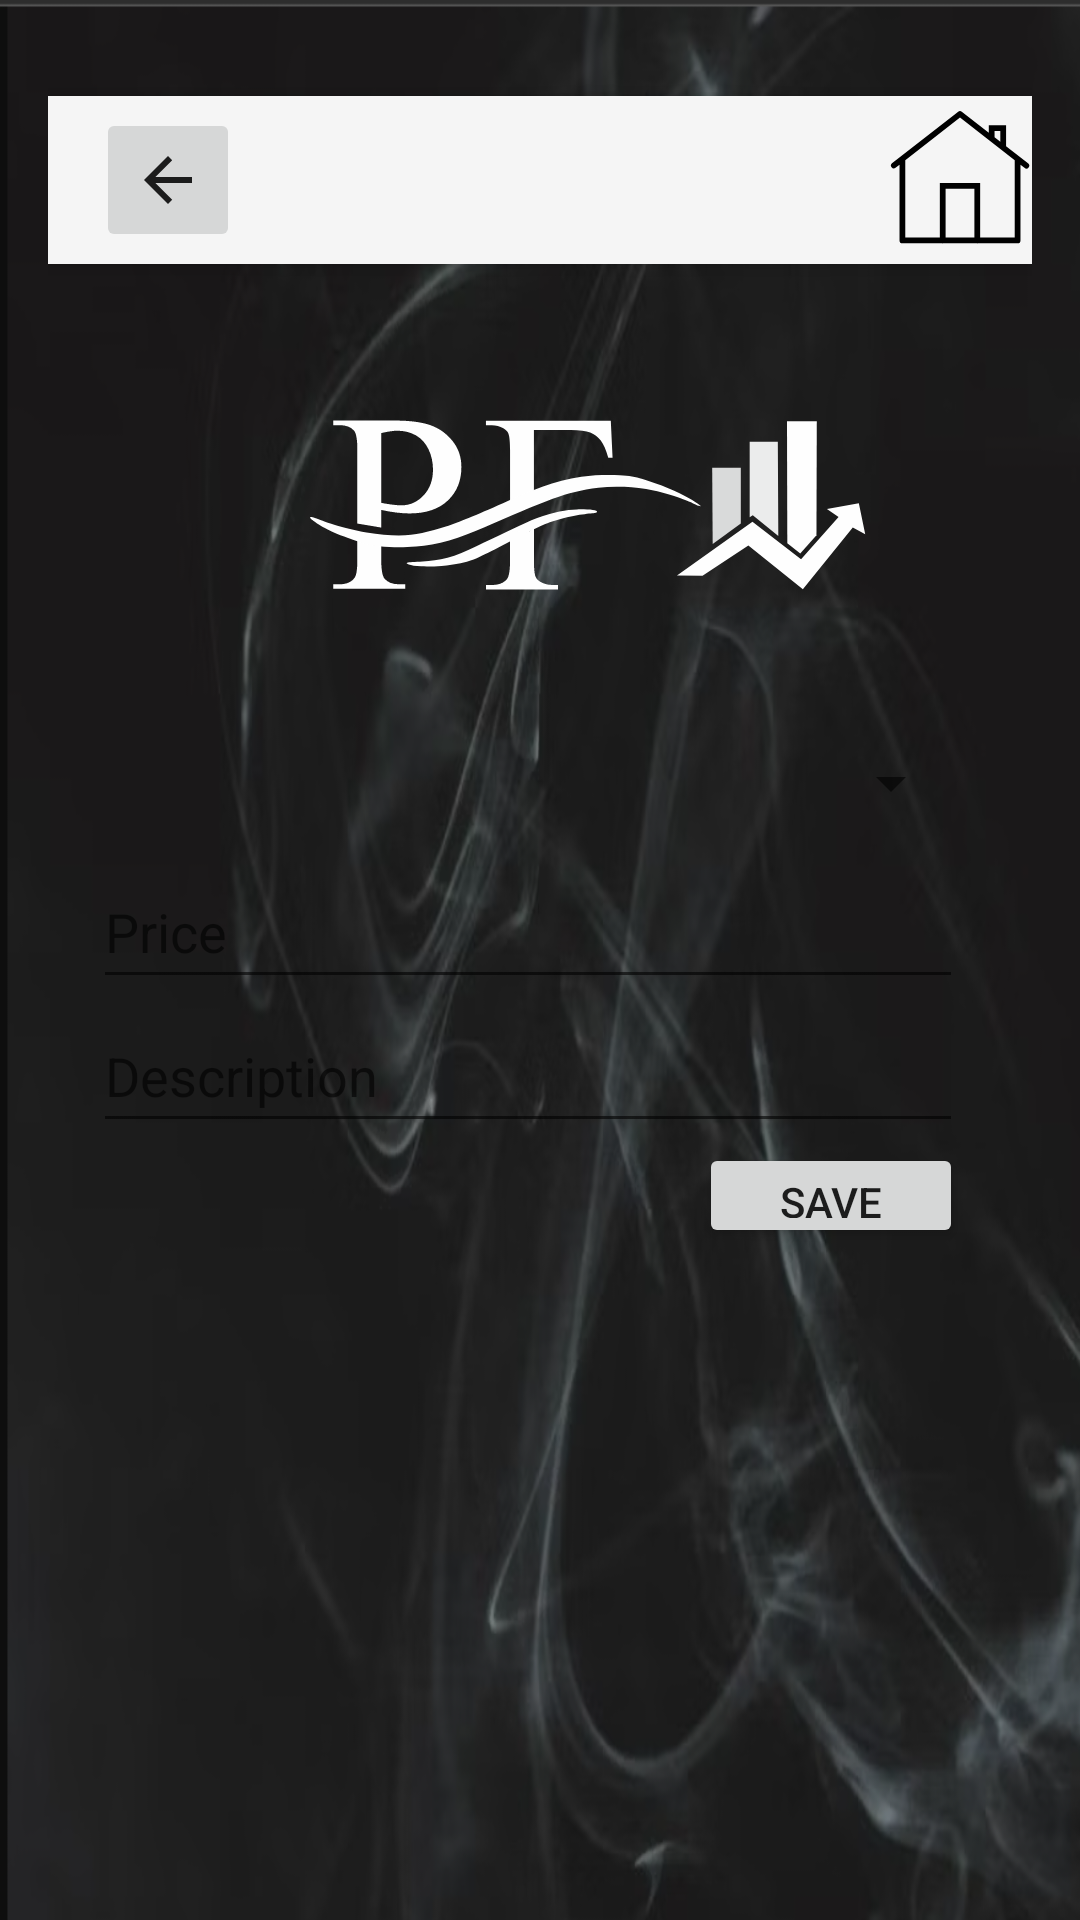

Icon click points for this 1080*1920 phone screenshot, format (x,y):
Go to home activity: (960,177)
